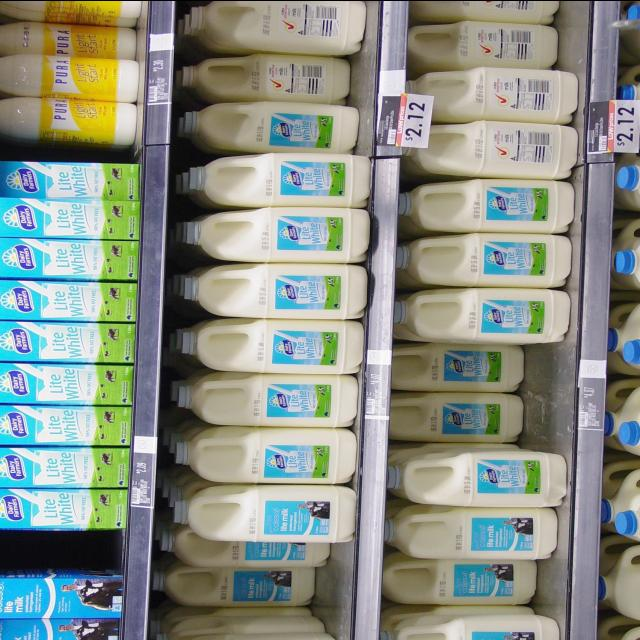empty_space: (520, 345, 576, 440), (3, 531, 121, 572)
